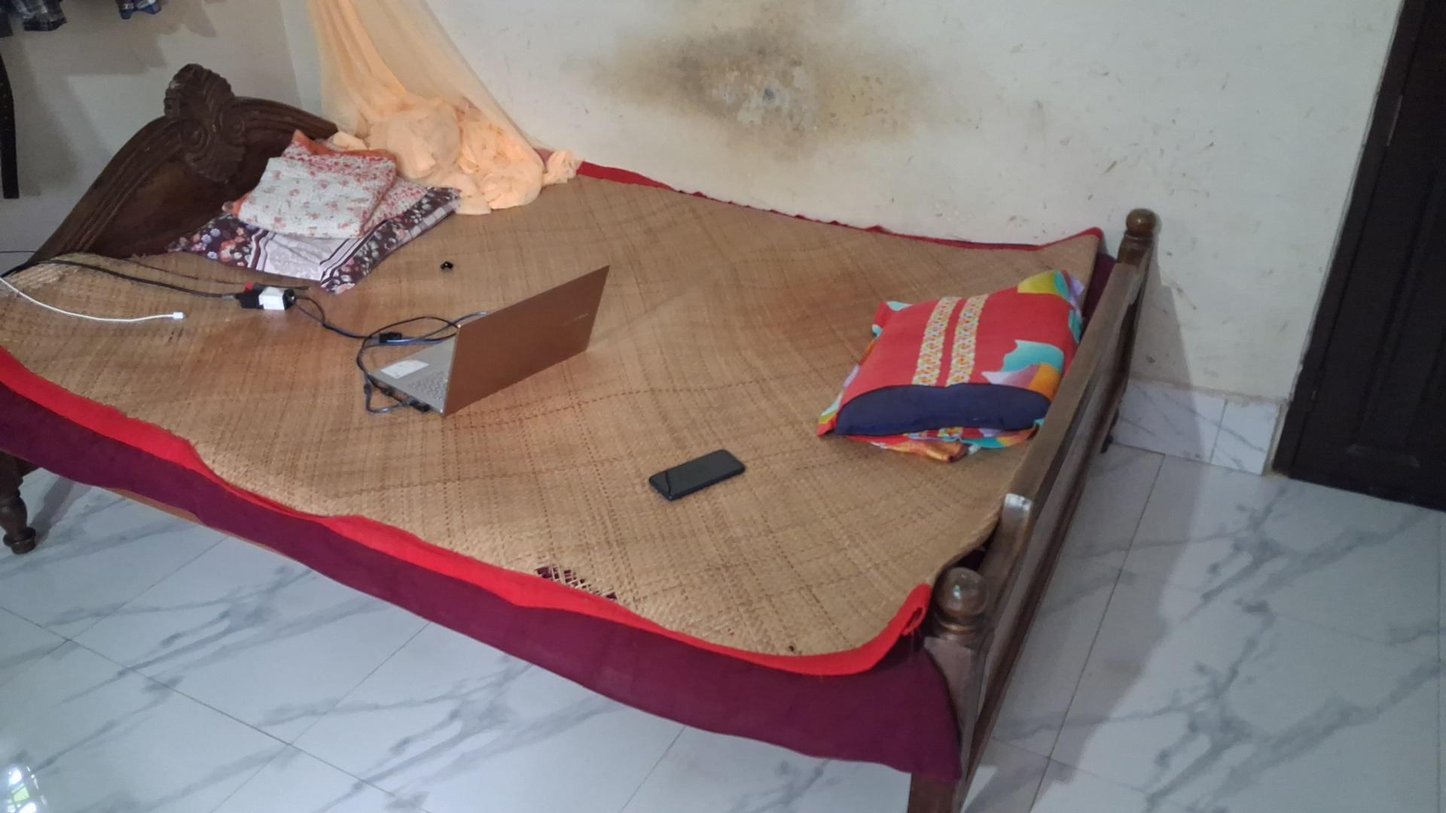Blanket: (224, 129, 400, 237)
Laptop: (357, 264, 610, 418)
Phone: (648, 448, 746, 501)
Pillow: (815, 272, 1086, 451)
